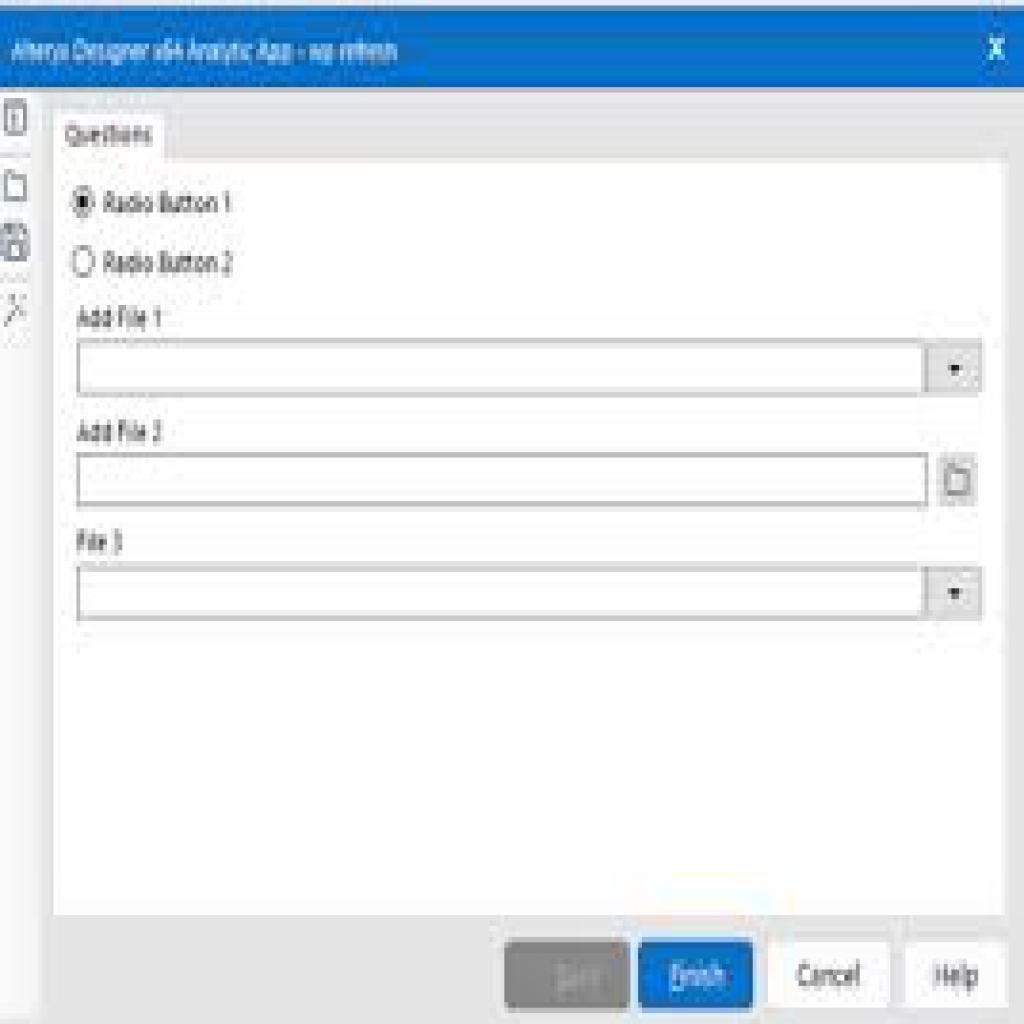button: (504, 938, 631, 1011), (638, 940, 757, 1013), (765, 941, 890, 1010), (904, 942, 1009, 1007), (54, 114, 166, 160)
dropdown: (79, 341, 984, 397), (77, 566, 982, 621)
icon: (1, 288, 34, 337), (1, 221, 33, 268), (940, 460, 975, 501), (2, 165, 34, 207), (1, 97, 32, 138), (982, 32, 1011, 68)
input: (78, 455, 929, 509)
label: (102, 187, 236, 222), (107, 247, 237, 282), (74, 412, 169, 449), (72, 304, 169, 333), (72, 527, 128, 559)
radio: (66, 183, 101, 225), (69, 243, 99, 284)
